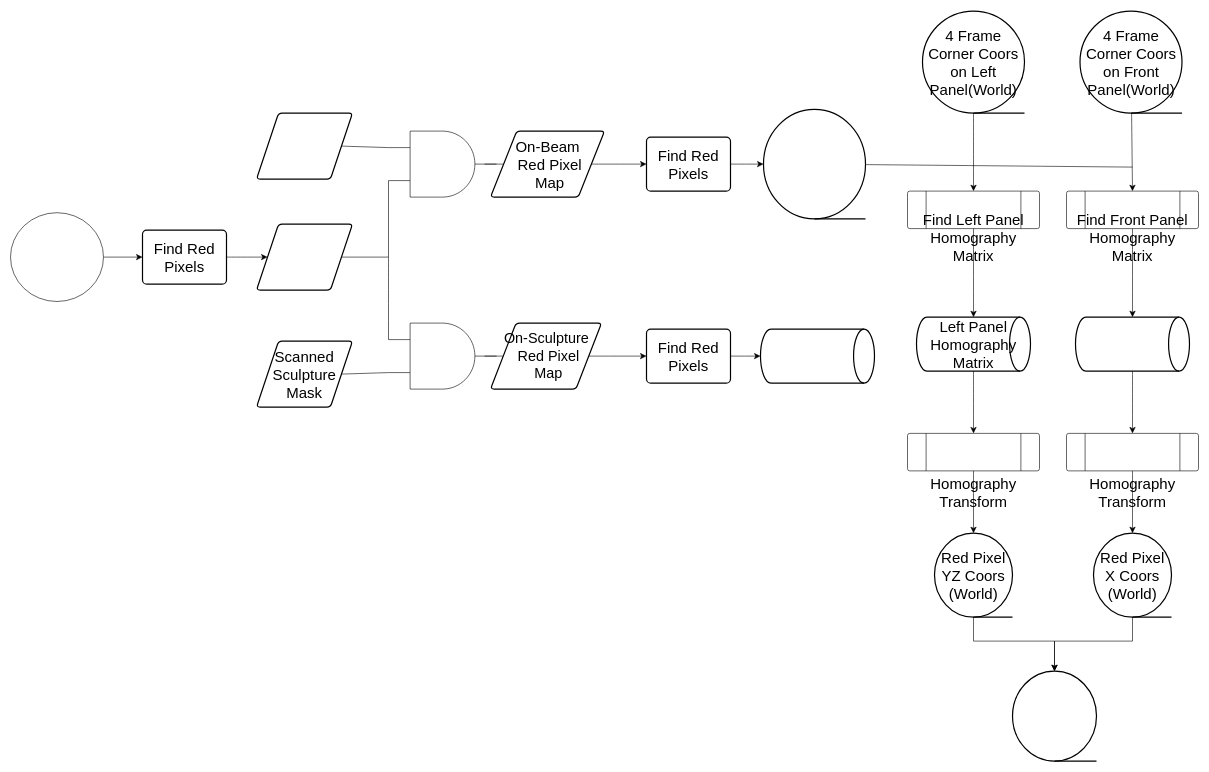
Some shapes in this 1209 by 772 pixel diagram are drawn without their labels. The box of each missing label's shape, as (x1, y1, x2, y2) in pixels:
4 Avg On-Beam Red Pixel Coors(Image): (763, 108, 866, 219)
Front Panel Homography Matrix: (1075, 316, 1190, 371)
On-Sculpture Red Pixel Coors(Image): (760, 328, 875, 383)
Red Pixel Map: (256, 223, 353, 290)
Red Pixel XYZ Coors (World): (1012, 670, 1097, 761)
Scan Image Input: (10, 212, 104, 302)
Scanned Frame Mask: (256, 112, 353, 179)
